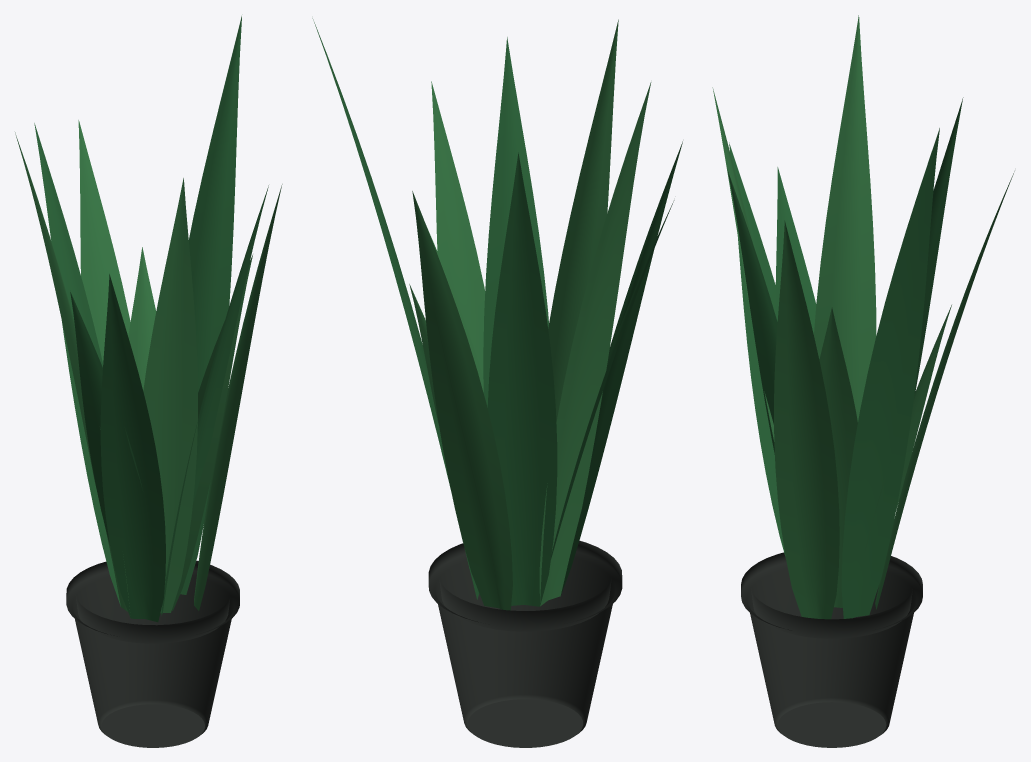
Rendered from snake_charcoal_L.glb.
3 renders of one model, left to right at view 1: azimuth 30°, elevation 25°; view 2: azimuth 150°, elevation 25°; view 3: azimuth 270°, elevation 25°, orthographic. The views are drawn at different scales.
Parts seen in each view (by area): view 1: Snake Plant (charcoal, L); view 2: Snake Plant (charcoal, L); view 3: Snake Plant (charcoal, L).
Boxes of the visible parts, x1,y1,x2,y2 form: Snake Plant (charcoal, L): [15, 16, 282, 747]; Snake Plant (charcoal, L): [312, 18, 682, 747]; Snake Plant (charcoal, L): [712, 15, 1014, 747].
Bounding box in the file's own units: 0.4225 × 0.969 × 0.3985.
